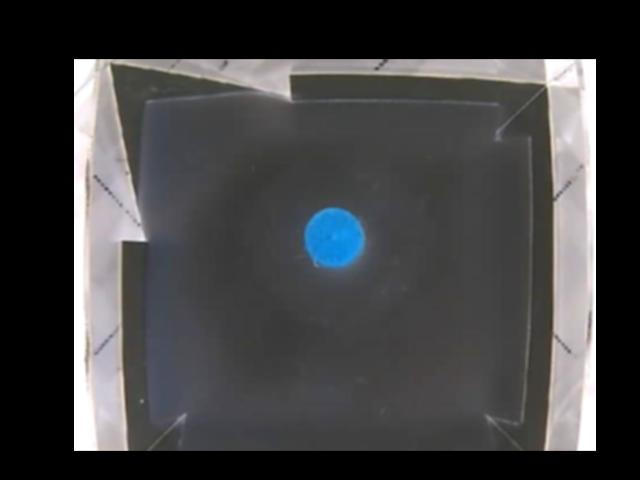Carrot: (303, 206, 364, 268)
